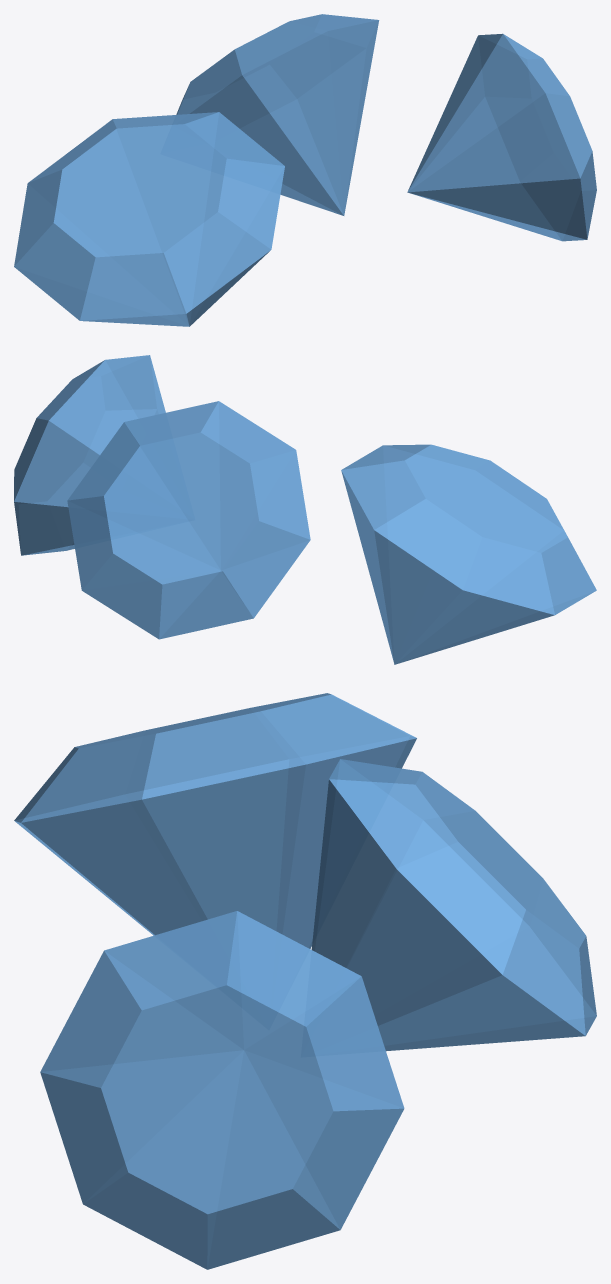
Rendered from Diamonds.fbx.
3 views of the same model, one above another, from view 1: azimuth 30°, elevation 25°; view 2: azimuth 150°, elevation 25°; view 3: azimuth 270°, elevation 25° (orthographic). The views are drawn at different scales.
Parts seen in each view (by area): view 1: Cylinder, Cylinder.001, Cylinder.002; view 2: Cylinder.002, Cylinder, Cylinder.001; view 3: Cylinder.001, Cylinder, Cylinder.002.
Boxes of the visible parts, x1=… form: Cylinder: x1=14, y1=112, x2=284, y2=326; Cylinder.001: x1=407, y1=33, x2=596, y2=241; Cylinder.002: x1=176, y1=14, x2=379, y2=215; Cylinder.002: x1=67, y1=401, x2=310, y2=639; Cylinder: x1=341, y1=444, x2=596, y2=664; Cylinder.001: x1=14, y1=355, x2=165, y2=555; Cylinder.001: x1=40, y1=911, x2=404, y2=1269; Cylinder: x1=14, y1=693, x2=416, y2=948; Cylinder.002: x1=311, y1=759, x2=596, y2=1051.
Bounding box in the file's own units: 228 × 97.68 × 140.
